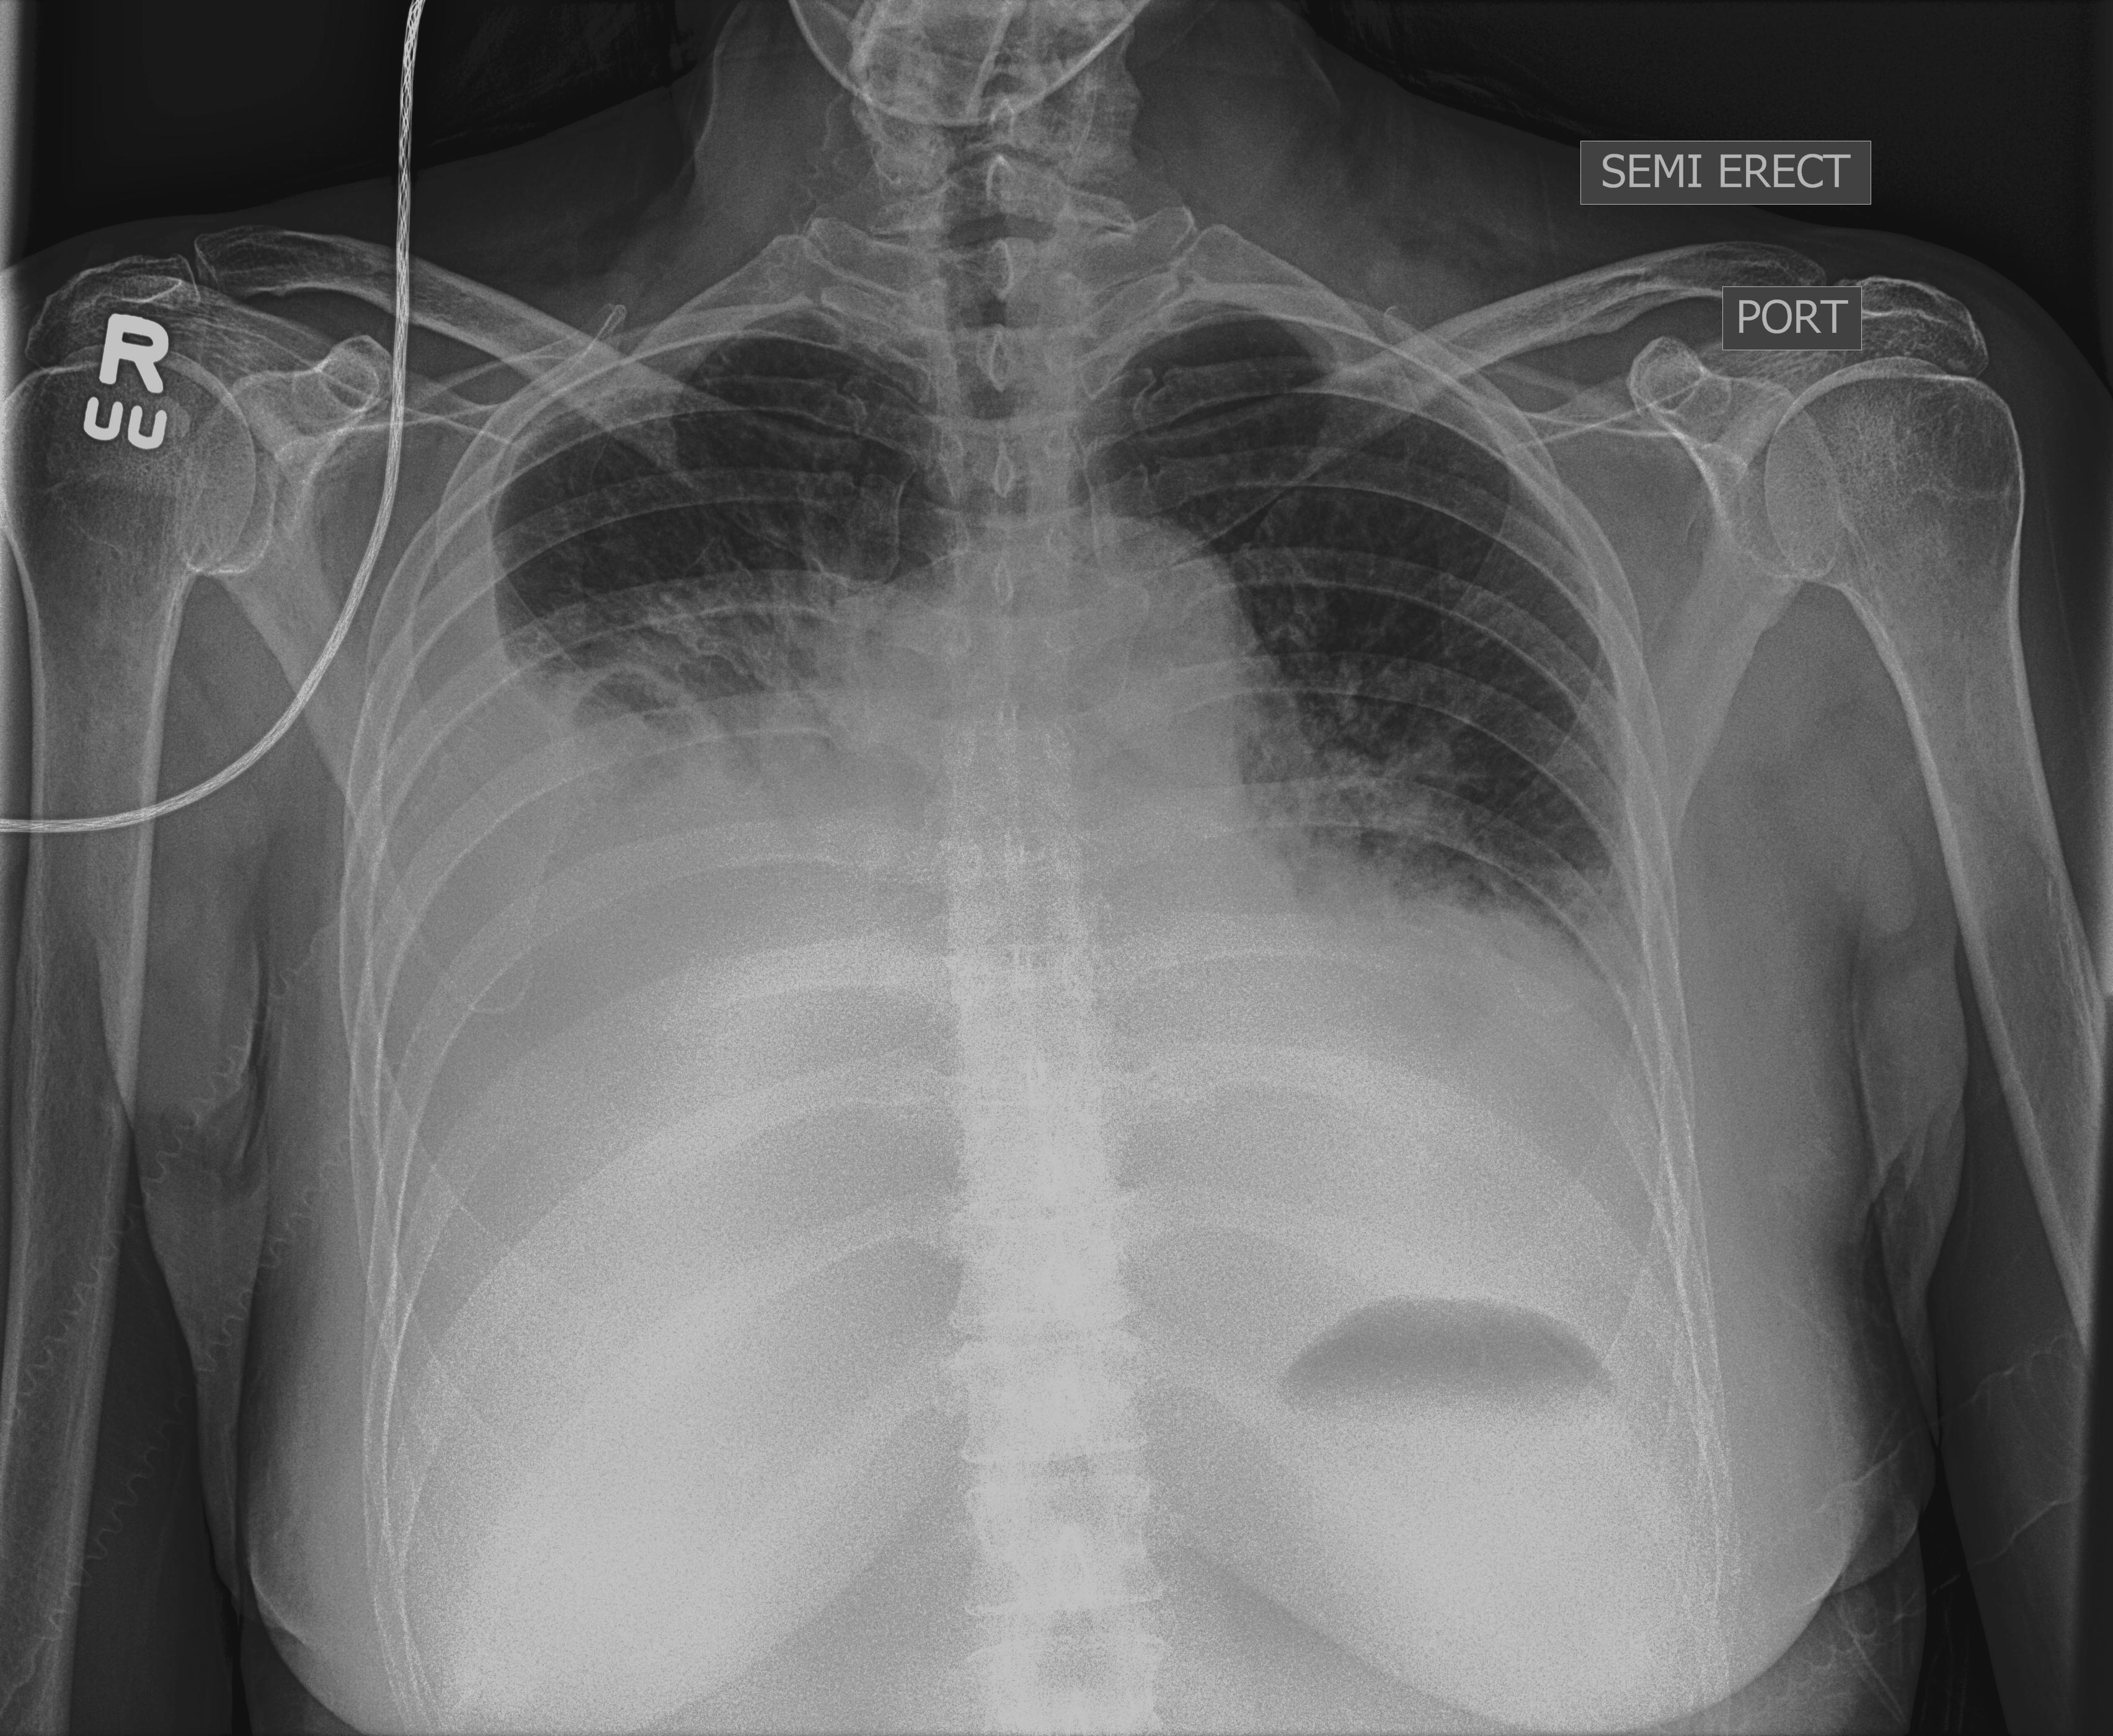Pleural Effusion: (330, 562, 835, 1618), (1295, 830, 1727, 1501)
